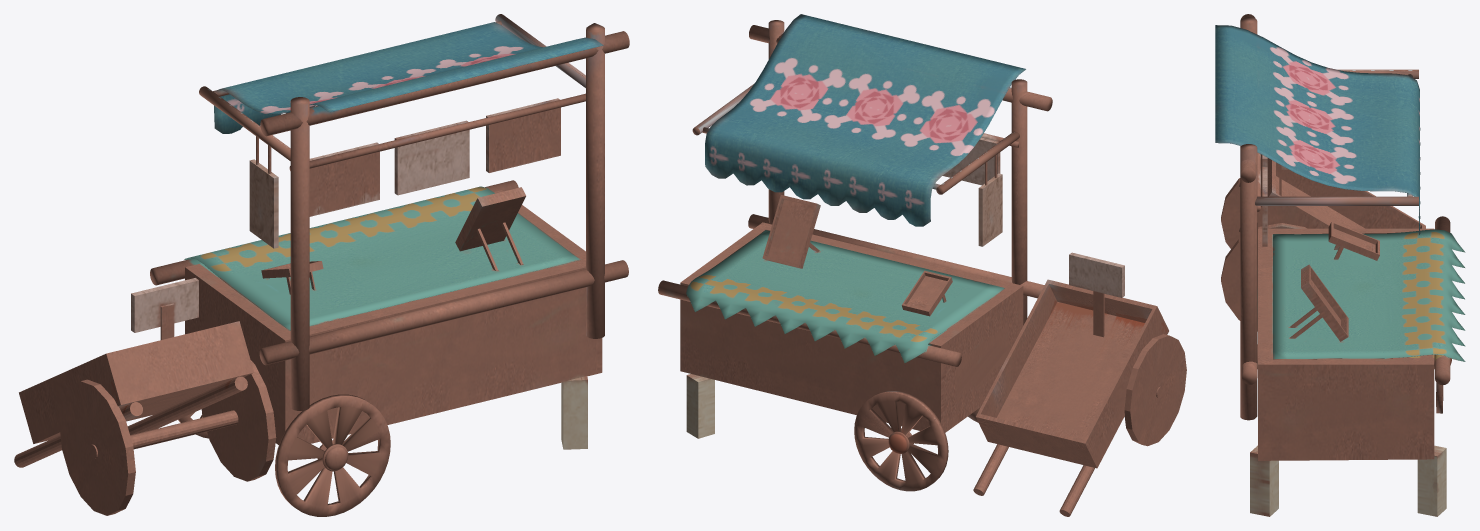
File: tiendita.fbx
3 views of the same model, side by side, from view 1: azimuth 30°, elevation 25°; view 2: azimuth 150°, elevation 25°; view 3: azimuth 270°, elevation 25° (orthographic). The views are drawn at different scales.
Visible parts, largest first — view 1: Cube.006; view 2: Cube.006; view 3: Cube.006.
Boxes of the visible parts, x1,y1,x2,y2 form: Cube.006: (14,14,629,516); Cube.006: (658,14,1186,516); Cube.006: (1215,14,1465,516).
Bounding box in the file's own units: 585 × 463 × 280.
1 material, 1 textured.
